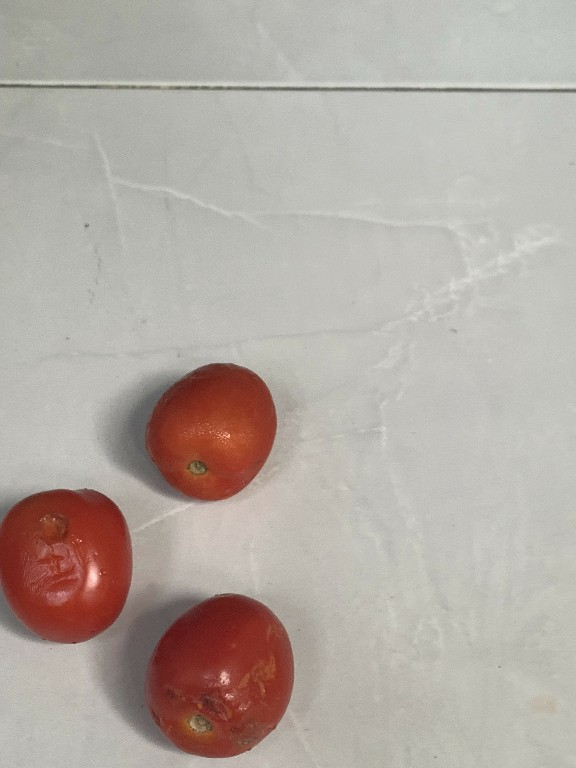NG: (142, 590, 292, 763), (0, 476, 128, 646)
OK: (137, 358, 283, 502)
